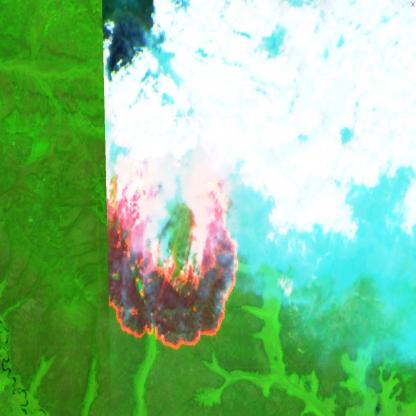fire: (105, 150, 243, 356)
